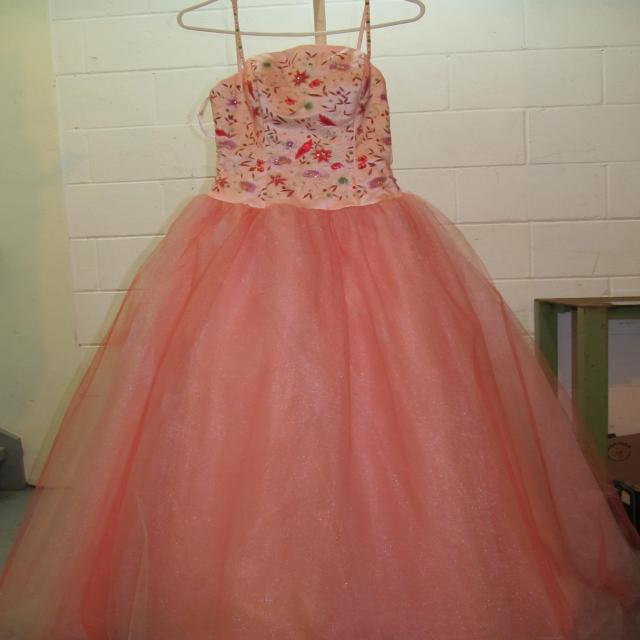Dress: (70, 46, 585, 640)
